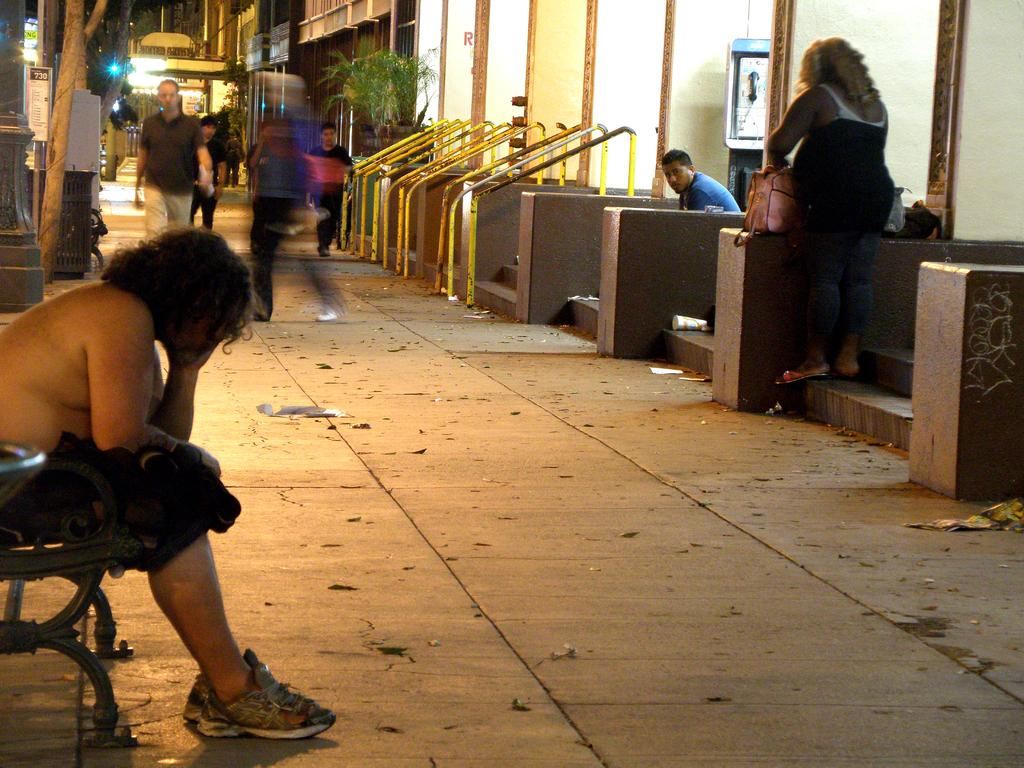Luggage-and-bags: (730, 164, 795, 244)
